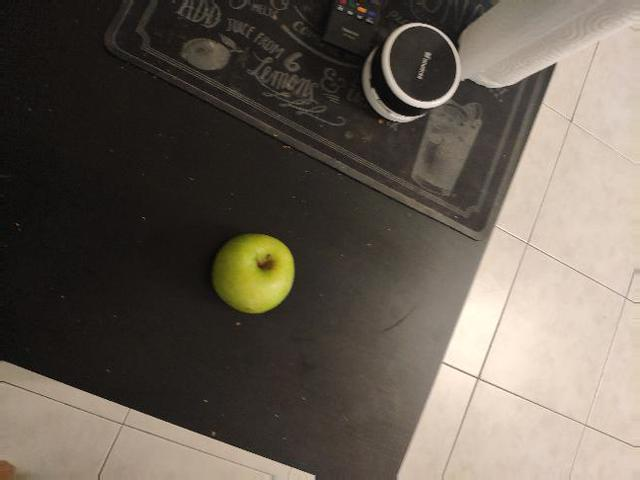apple: (372, 329, 476, 461)
